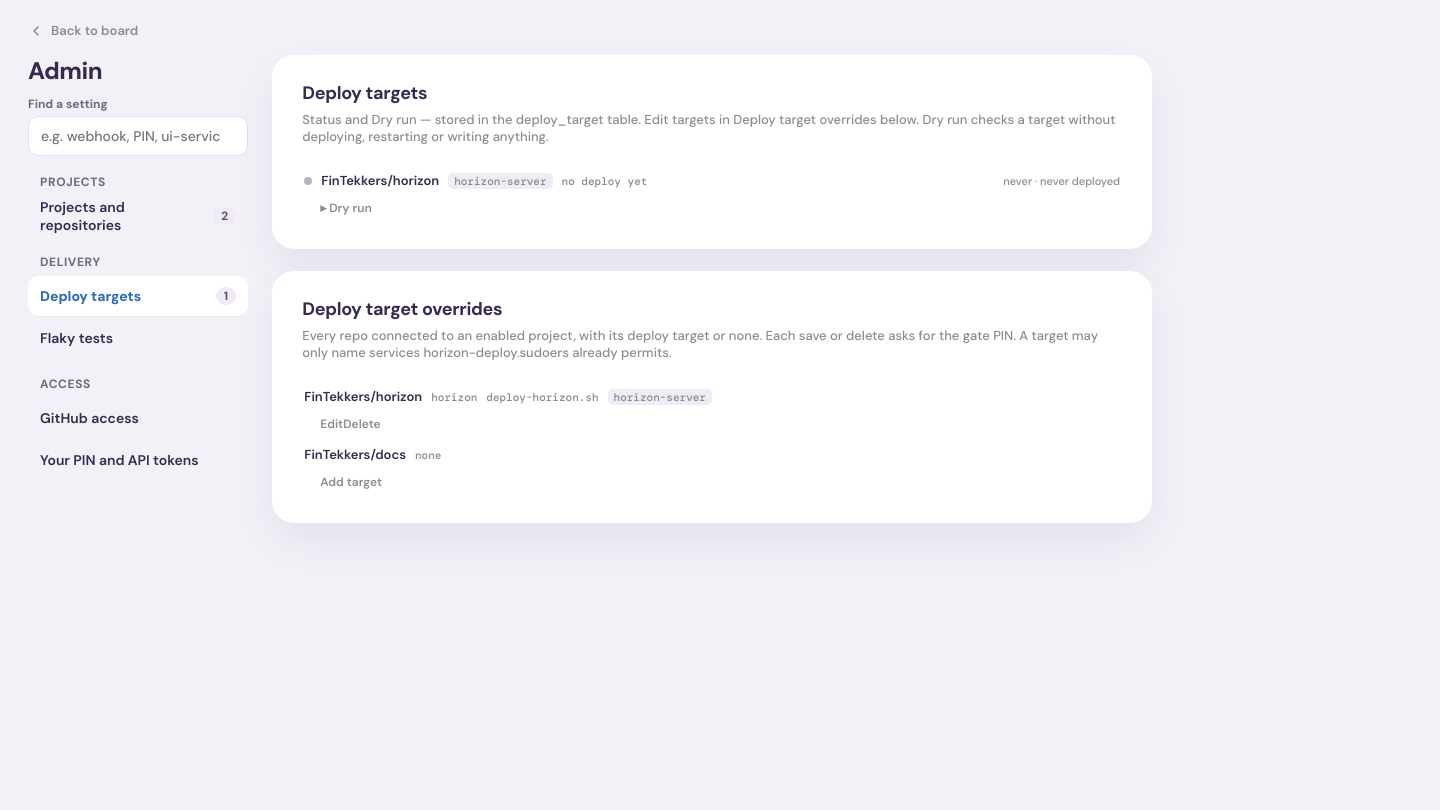
Test: after a create the Deploy targets panel lists the new key with its Dry run, without a reload
This screenshot has width=1440, height=810.
Check: the text "FinTekkers/docs" is shown, box [304,446,406,463]
Check: the text "FinTekkers/horizon" in the row of "no deploy yet" is shown, box [321,172,439,189]
Click the button "Add target".
click(351, 482)  # box [320,474,382,490]
(page scrolled)
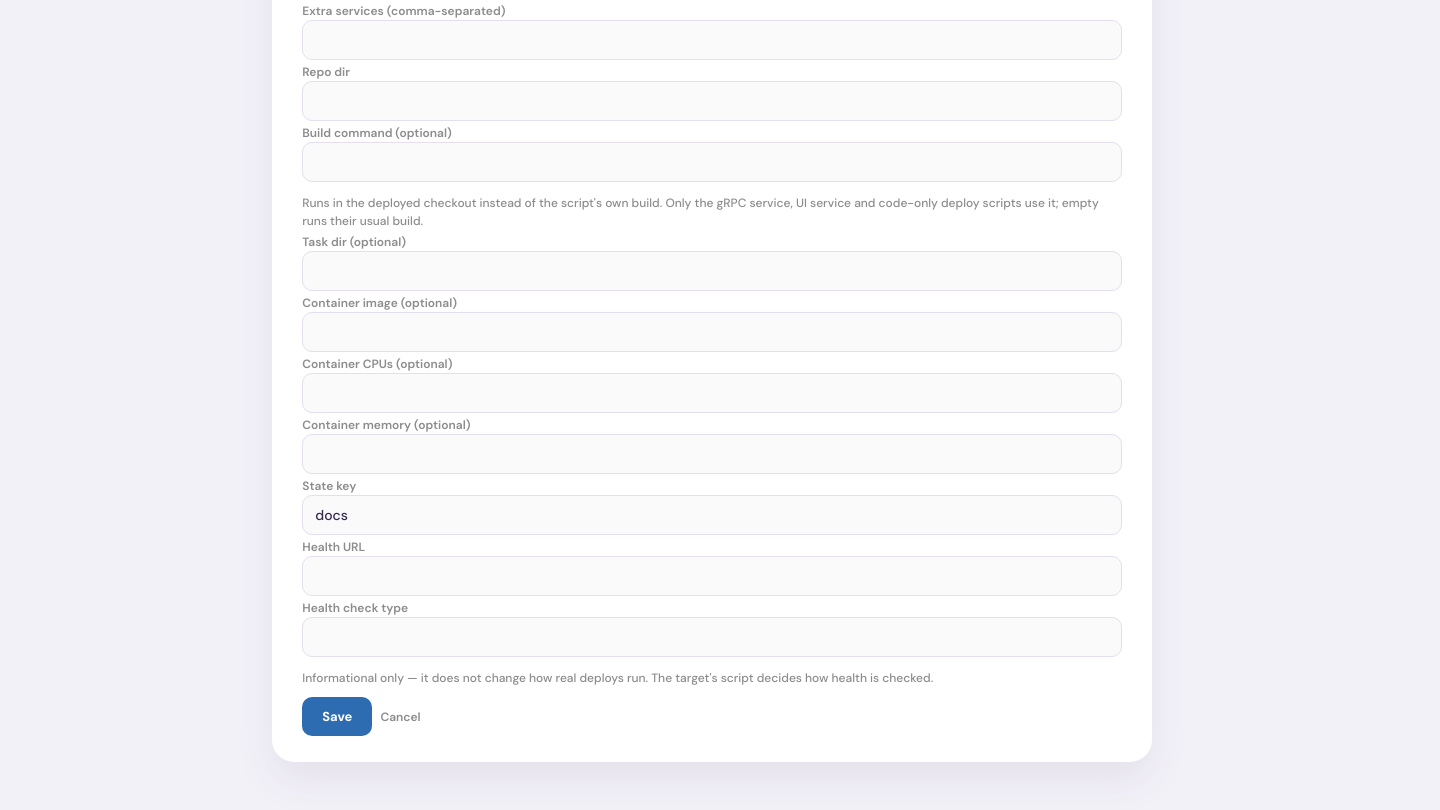
Click the button "Save".
click(337, 716)  # box [302,697,372,736]
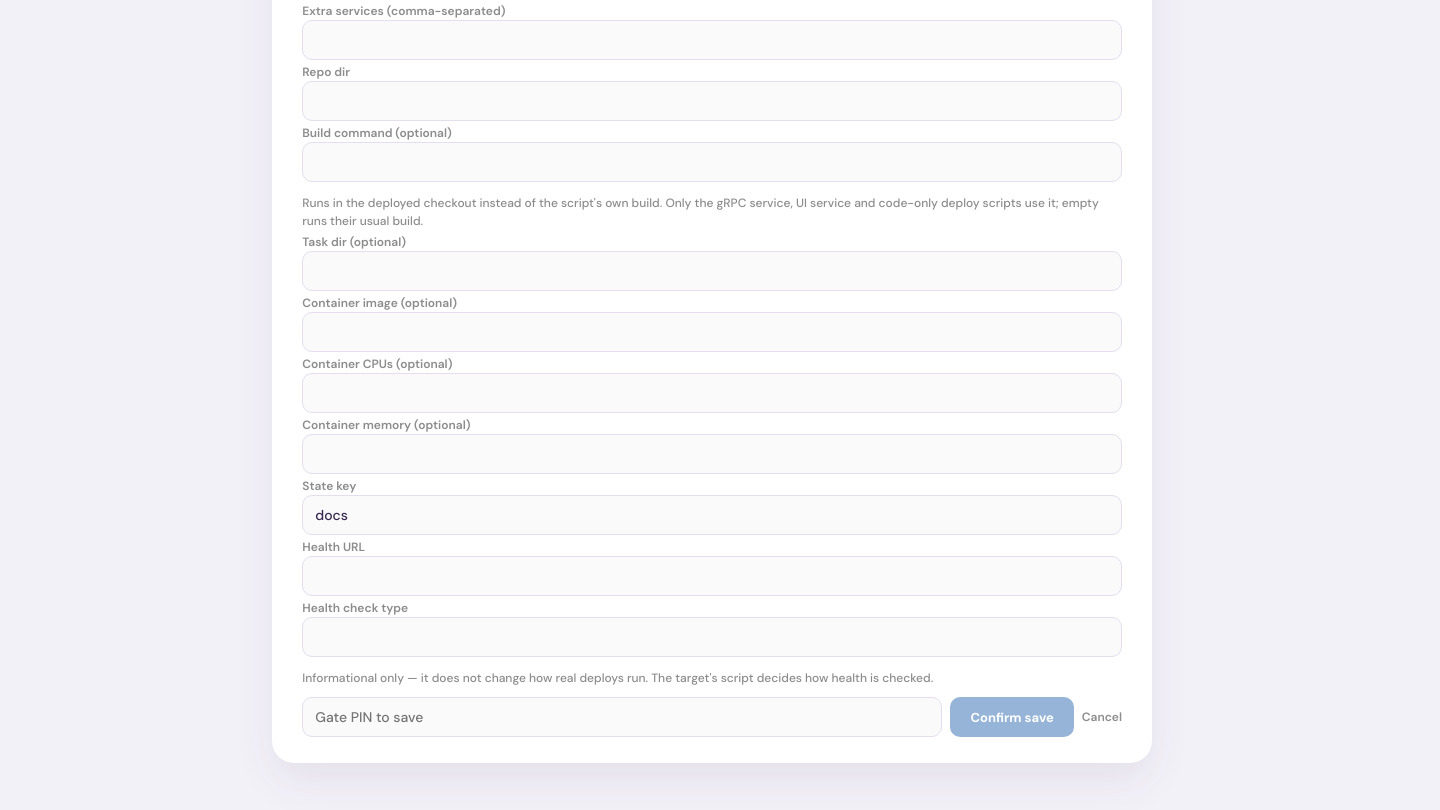
Type "1" into the password field named "Gate PIN to save deploy target for FinTekkers/docs".
click(622, 717); type("1")  # box [302,697,942,737]
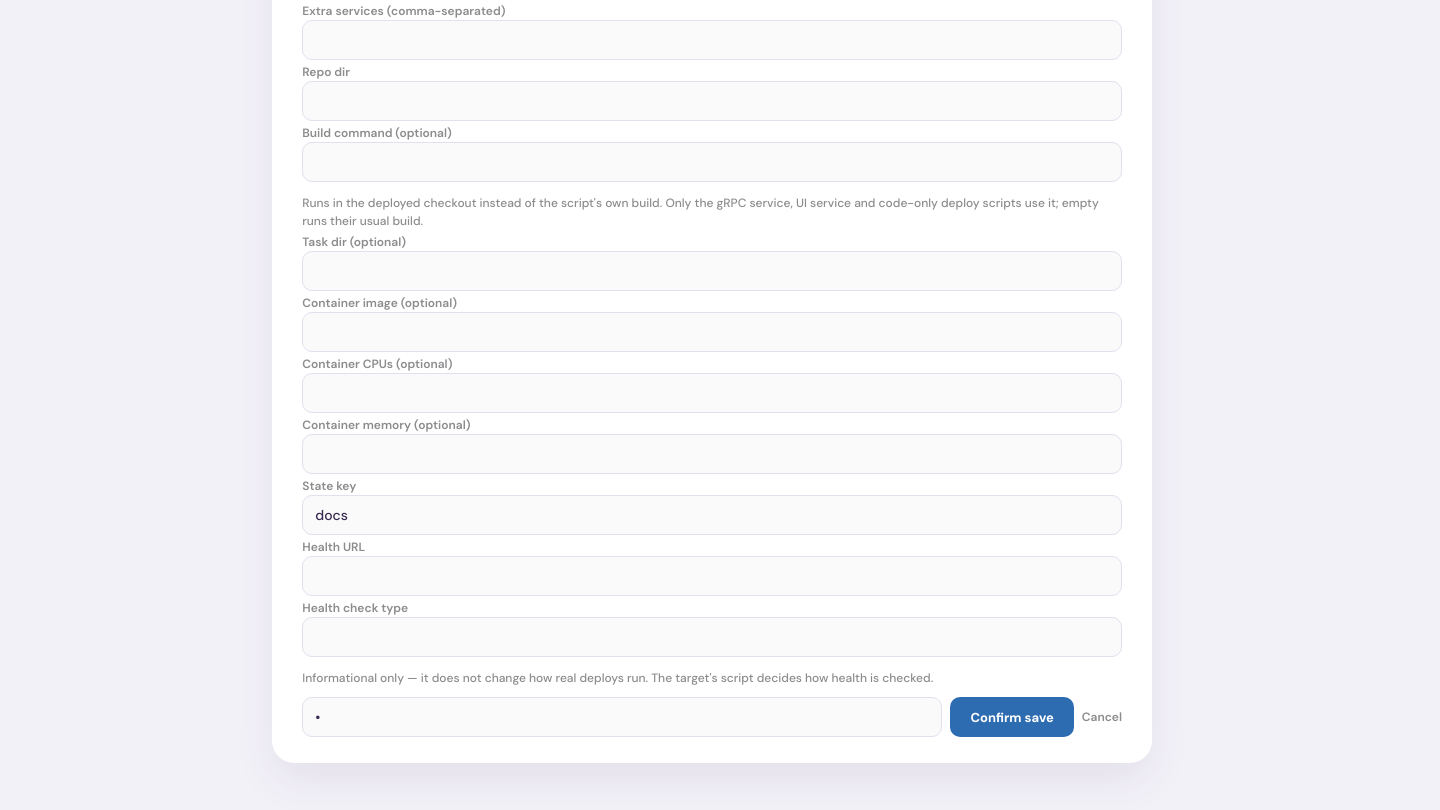
Click the button "Confirm save".
click(1012, 717)  # box [950,697,1074,737]
(page scrolled)
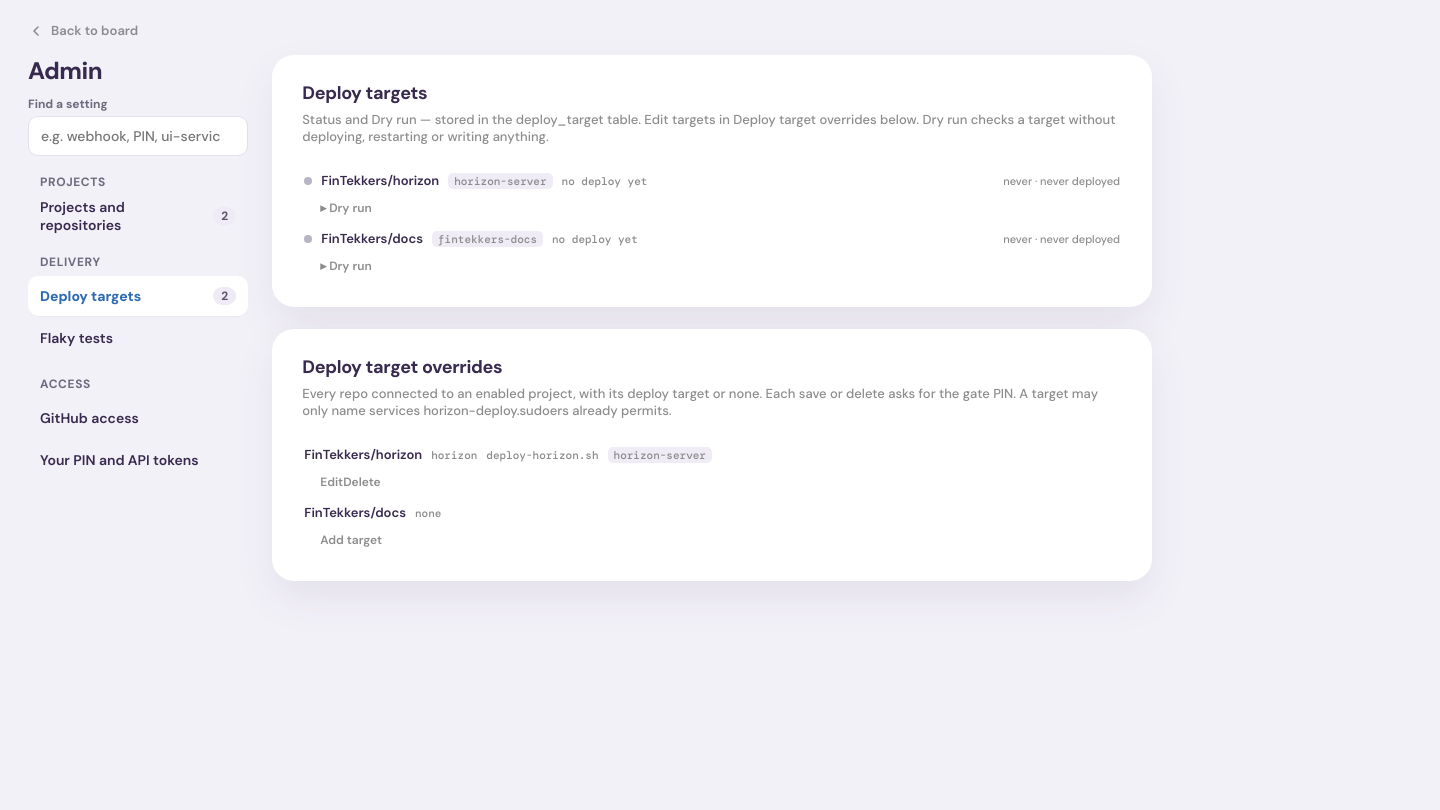
Check: the text "FinTekkers/docs" next to "fintekkers-docs" is shown, box [321,230,423,247]
Check: the number of buttons "▸ Dry run" is 2, box [320,200,372,216]; [320,258,372,274]
